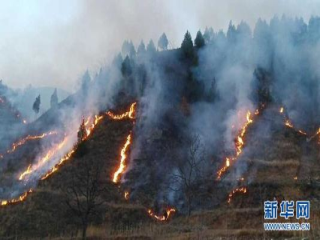fire: (1, 105, 104, 208), (225, 104, 260, 201), (107, 100, 135, 198), (143, 205, 178, 226)
smoke: (135, 53, 224, 202), (207, 25, 318, 128), (11, 56, 130, 110)
